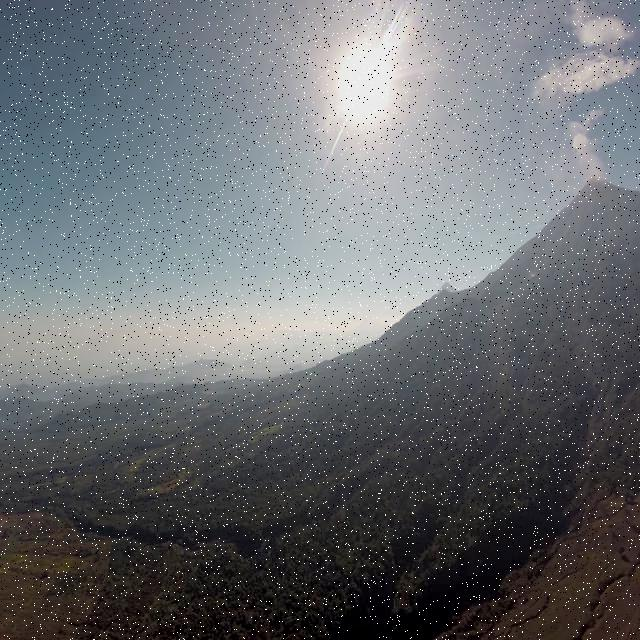Plume: (529, 52, 637, 100), (566, 104, 608, 190), (567, 2, 635, 54)
Summit: (578, 170, 616, 202)
